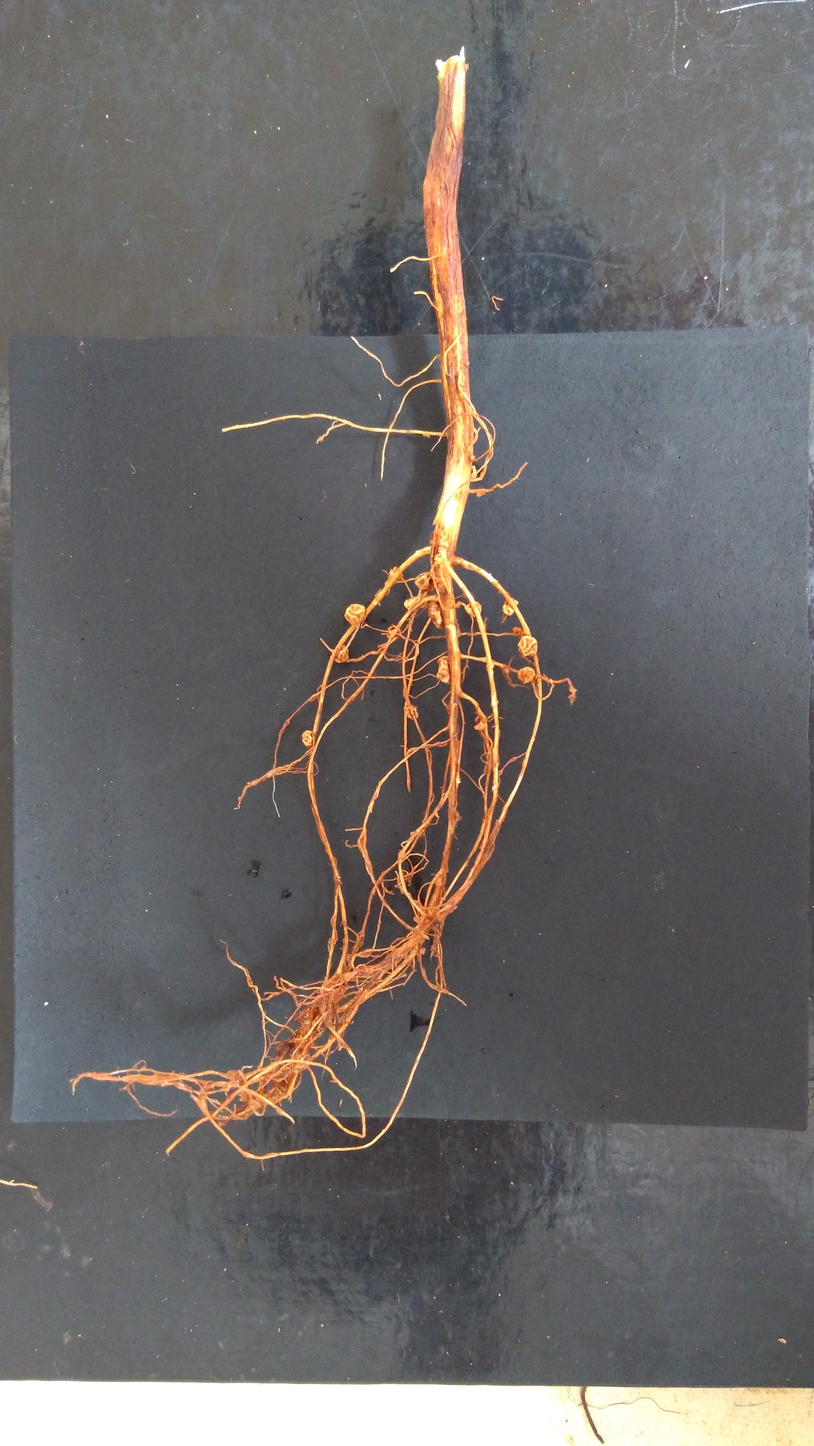nodule: (316, 972, 347, 1015), (273, 1067, 296, 1091), (287, 1052, 312, 1072), (427, 602, 445, 629), (344, 603, 366, 625), (436, 655, 451, 685), (517, 636, 538, 657), (517, 666, 536, 685), (418, 592, 438, 609), (333, 645, 349, 664), (464, 601, 482, 617), (502, 597, 518, 615), (434, 552, 450, 569), (414, 574, 429, 591), (301, 730, 313, 750), (404, 705, 419, 720), (387, 567, 404, 580), (303, 1006, 314, 1026), (403, 596, 418, 610), (473, 716, 486, 731), (357, 948, 372, 958), (434, 875, 444, 888), (470, 465, 477, 480), (512, 626, 522, 636), (454, 600, 461, 610), (419, 947, 426, 956), (503, 666, 510, 674), (422, 432, 431, 438), (469, 454, 475, 461), (403, 955, 409, 960)
